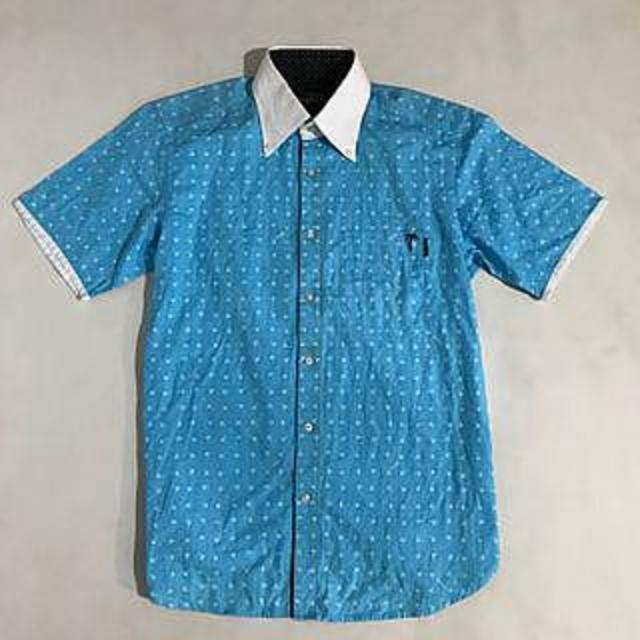SHIRT: (7, 34, 640, 628)
